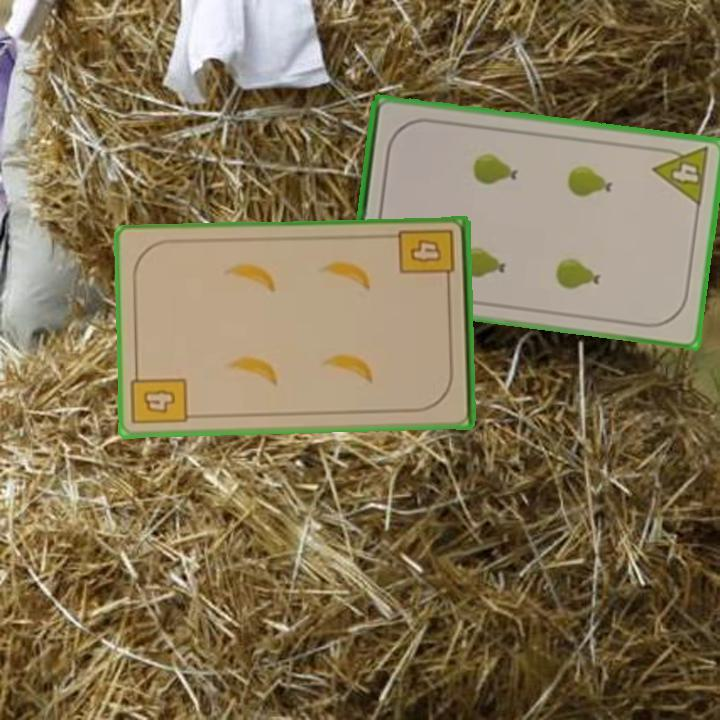4b: (396, 226, 458, 290), (128, 365, 190, 427)
4p: (649, 143, 713, 209)
